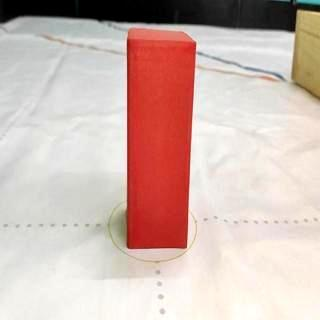redbox: (126, 26, 197, 248)
